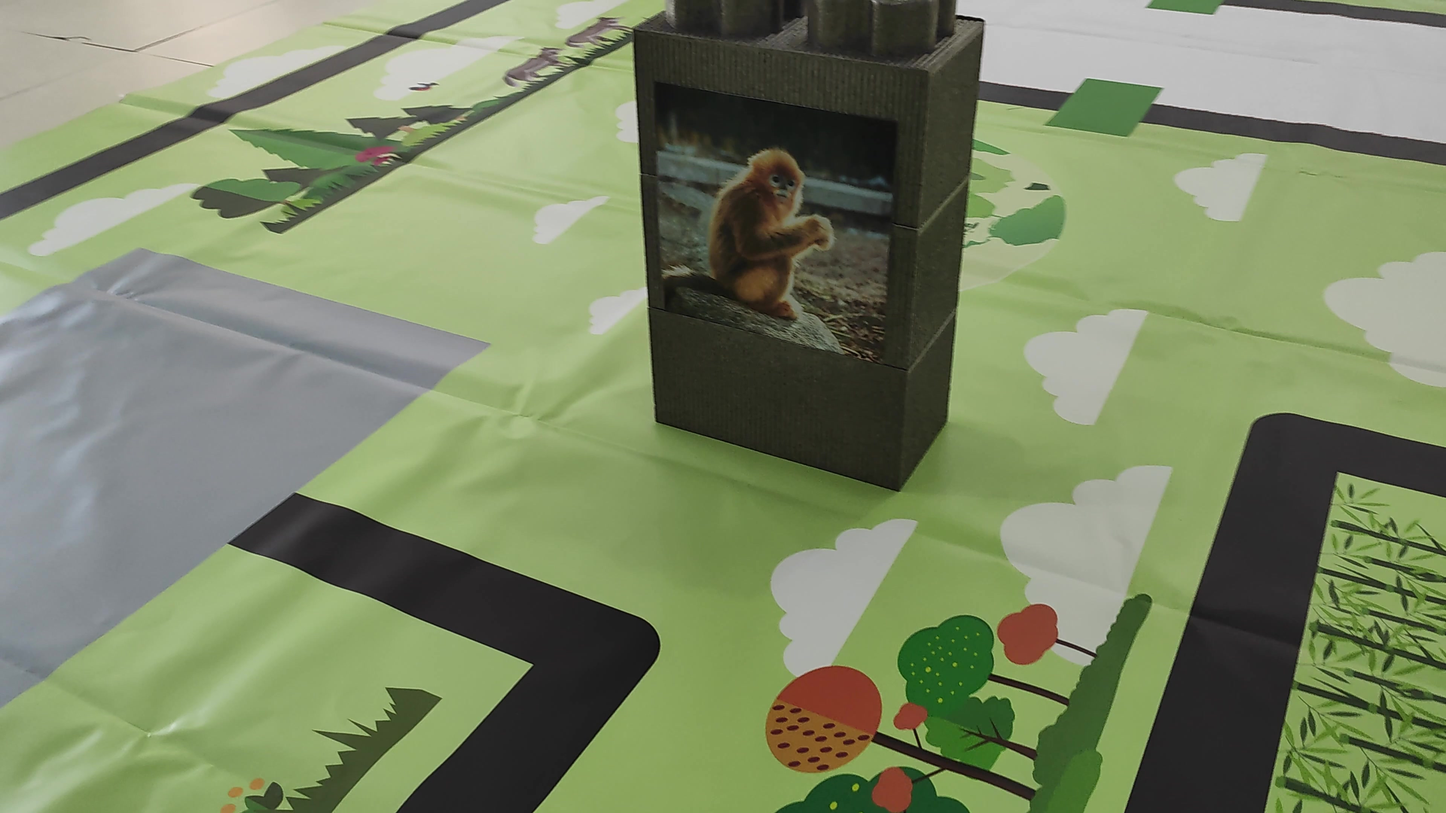monkey: (647, 109, 888, 351)
